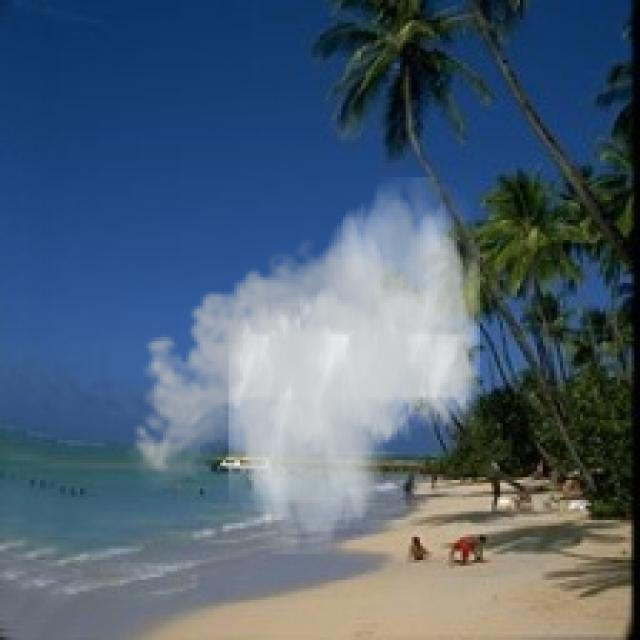smoke: (123, 177, 480, 554)
